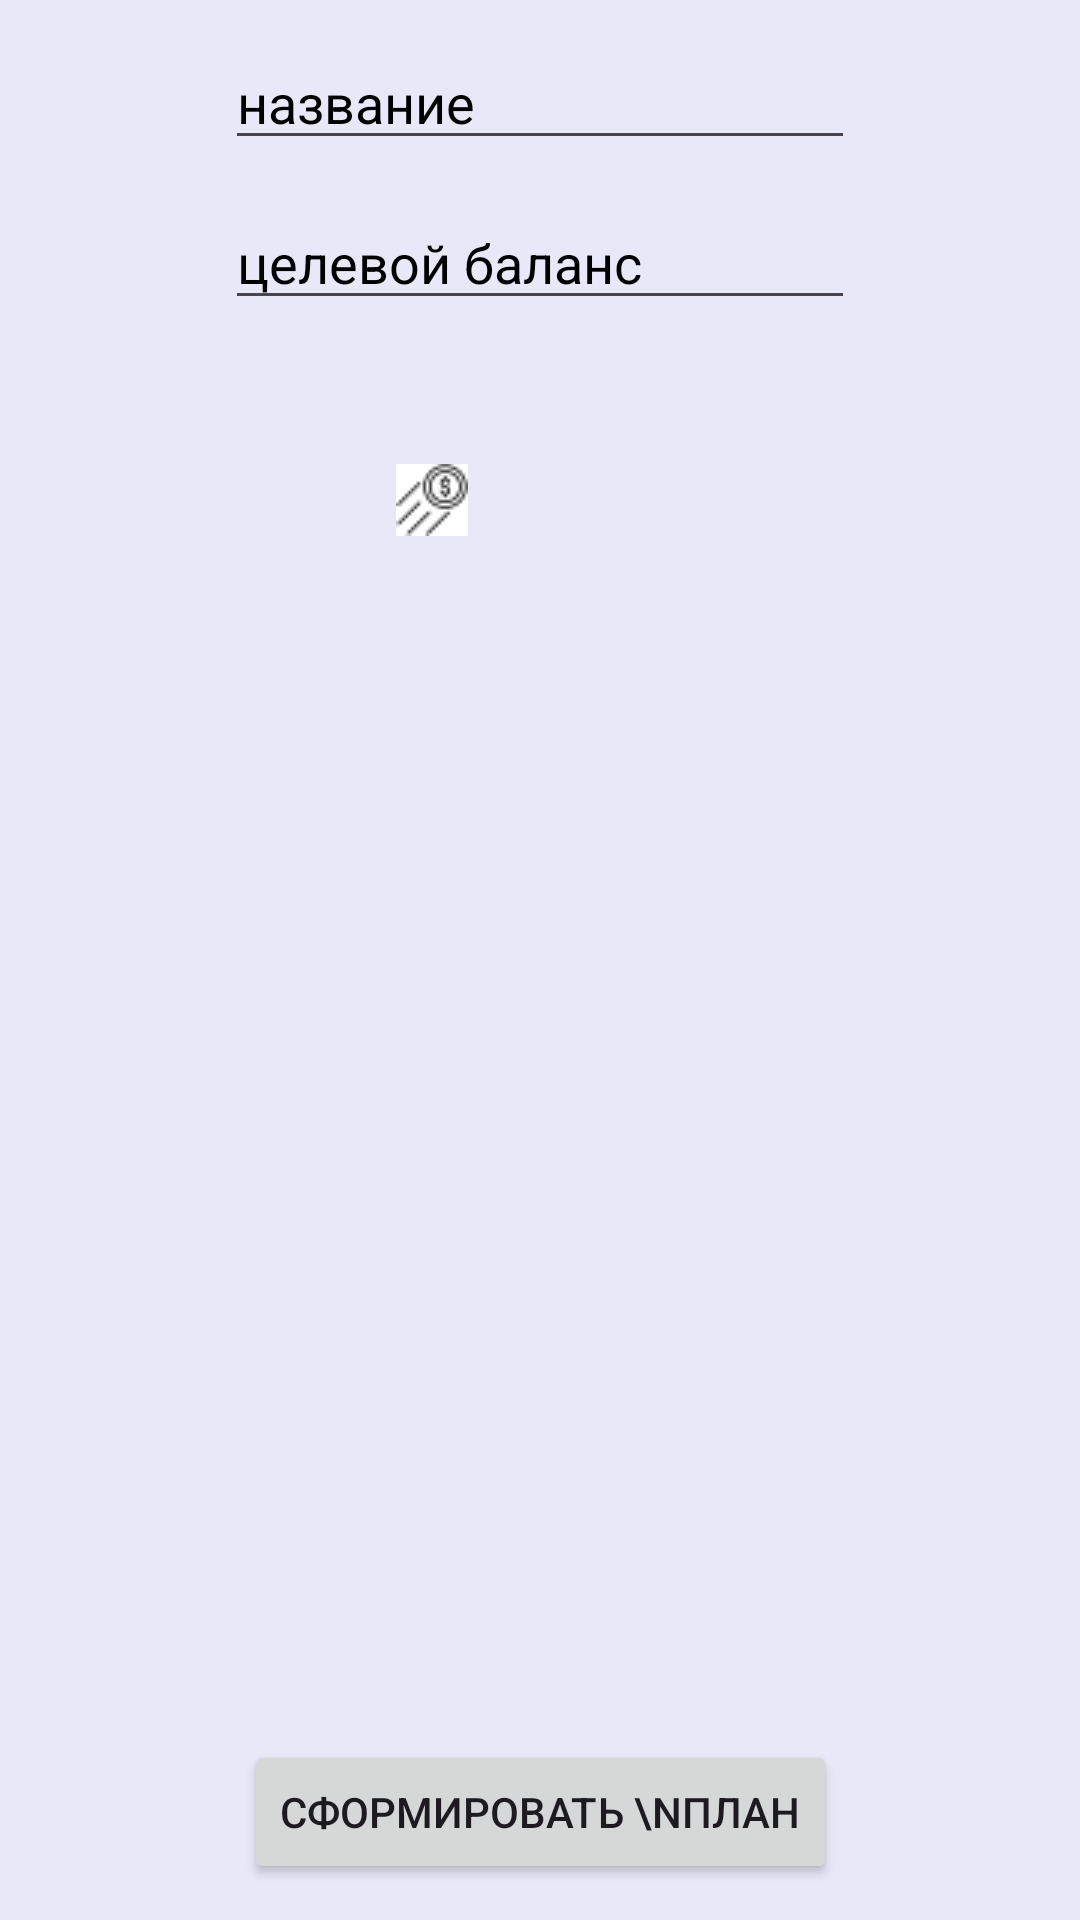

Point at icon controls on the screen. Image size 1080*1920, points as [x,y].
finances up: [432,500]
